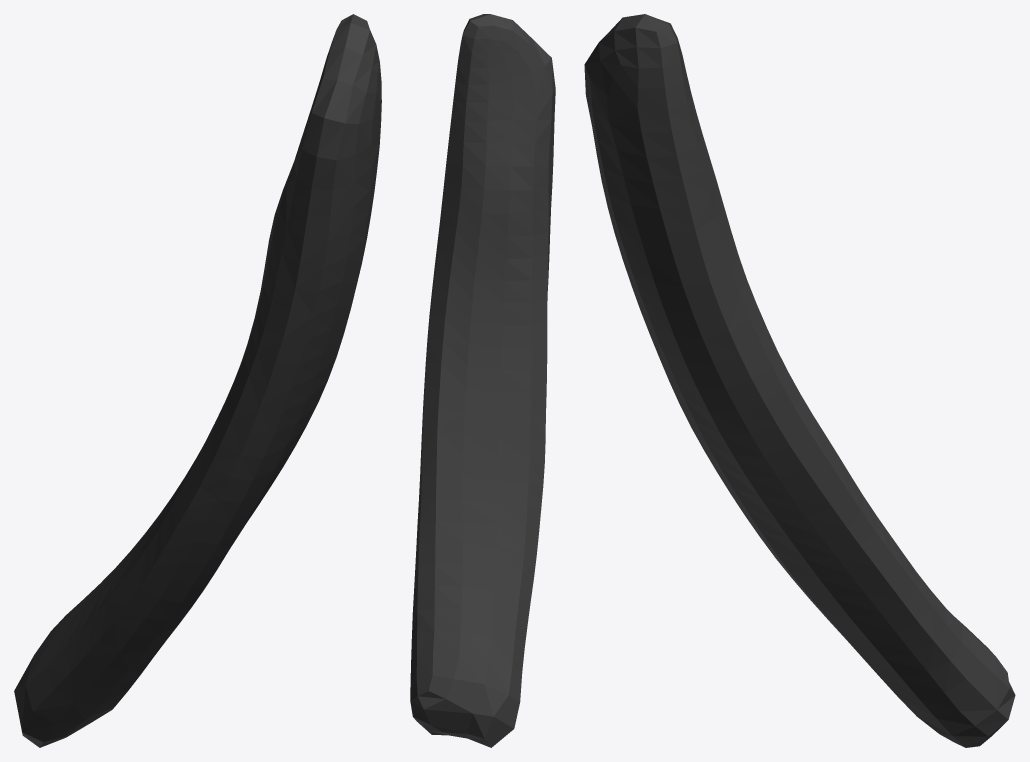
Rendered from Lateral_pat_lig.glb.
3 renders of one model, left to right at view 1: azimuth 30°, elevation 25°; view 2: azimuth 150°, elevation 25°; view 3: azimuth 270°, elevation 25°, orthographic. The views are drawn at different scales.
Parts seen in each view (by area): view 1: Lateral_pat_lig; view 2: Lateral_pat_lig; view 3: Lateral_pat_lig.
Boxes of the visible parts, box(x1,y1,x2,y2) form: Lateral_pat_lig: box(14, 14, 381, 747); Lateral_pat_lig: box(410, 14, 555, 747); Lateral_pat_lig: box(584, 14, 1015, 747).
Size of the model in its own units: 0.3817 by 1.36 by 0.6743.
1 material, 1 textured.
